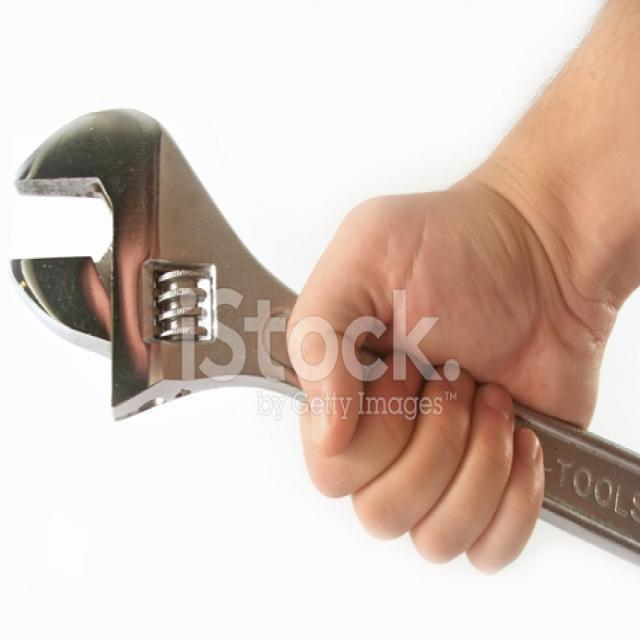wrench: (11, 100, 636, 576)
